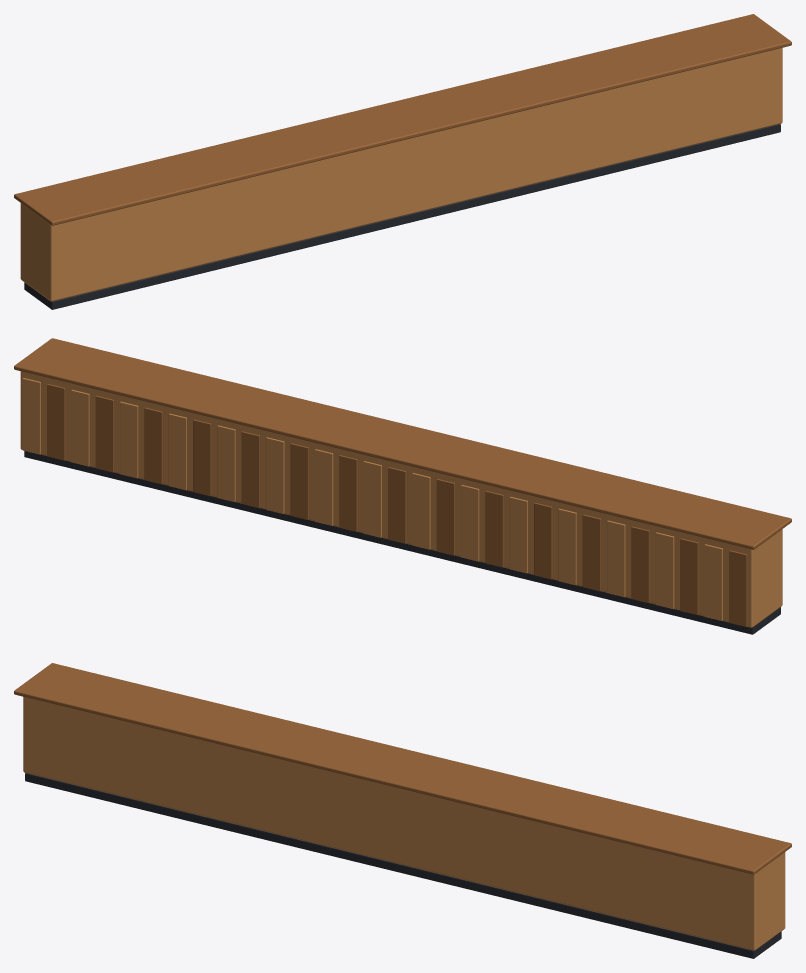
Rendered from balcao_loja.glb.
3 renders of one model, top to bottom at view 1: azimuth 30°, elevation 25°; view 2: azimuth 150°, elevation 25°; view 3: azimuth 330°, elevation 25°, orthographic.
Visible parts, largest first — view 1: corpo, tampo, rodape; view 2: ripa (×30), tampo, corpo, rodape; view 3: corpo, tampo, rodape.
Boxes of the visible parts, x1,y1,x2,y2 form: corpo: [20, 47, 782, 301]; tampo: [14, 14, 791, 225]; rodape: [24, 124, 780, 309]; ripa (×30): [22, 378, 747, 626]; tampo: [14, 338, 791, 549]; corpo: [20, 371, 782, 627]; rodape: [24, 451, 780, 634]; corpo: [23, 696, 785, 950]; tampo: [14, 663, 791, 874]; rodape: [25, 773, 781, 958].
Size of the model in its own units: 9.1 by 1.1 by 0.82.
